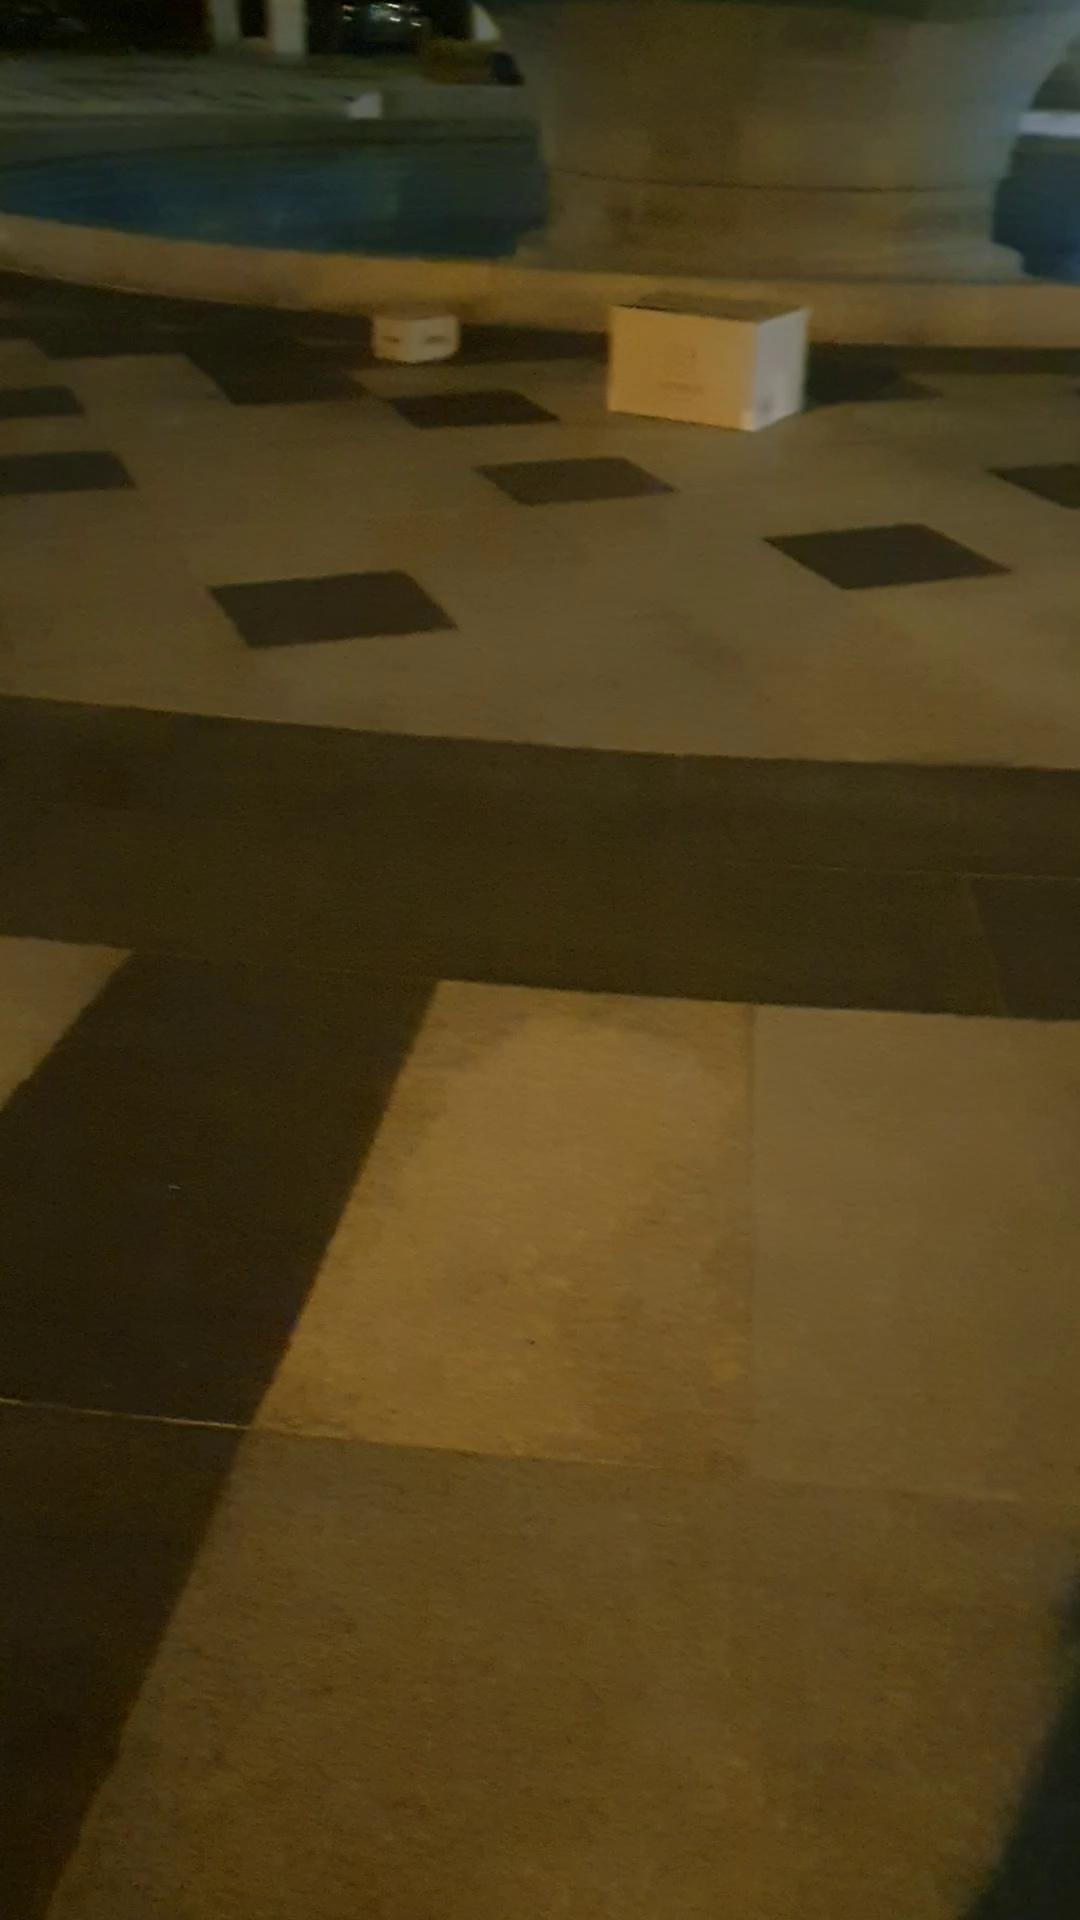Box: (588, 268, 814, 440), (353, 290, 472, 380)
